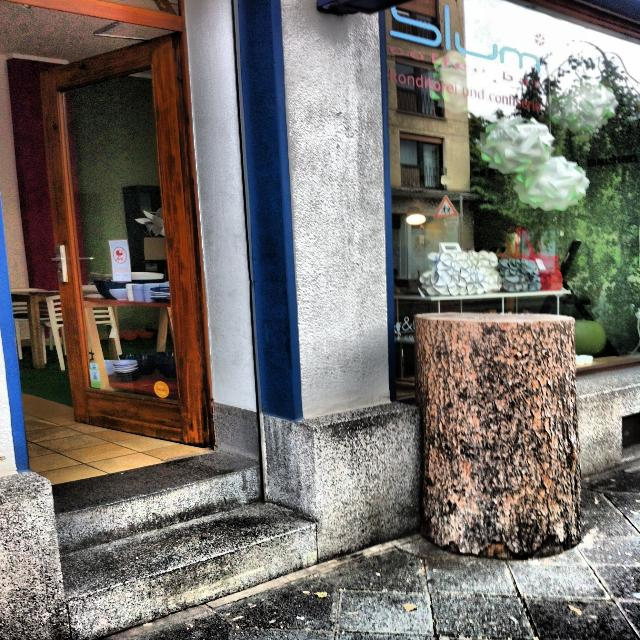escada: (44, 461, 314, 640)
